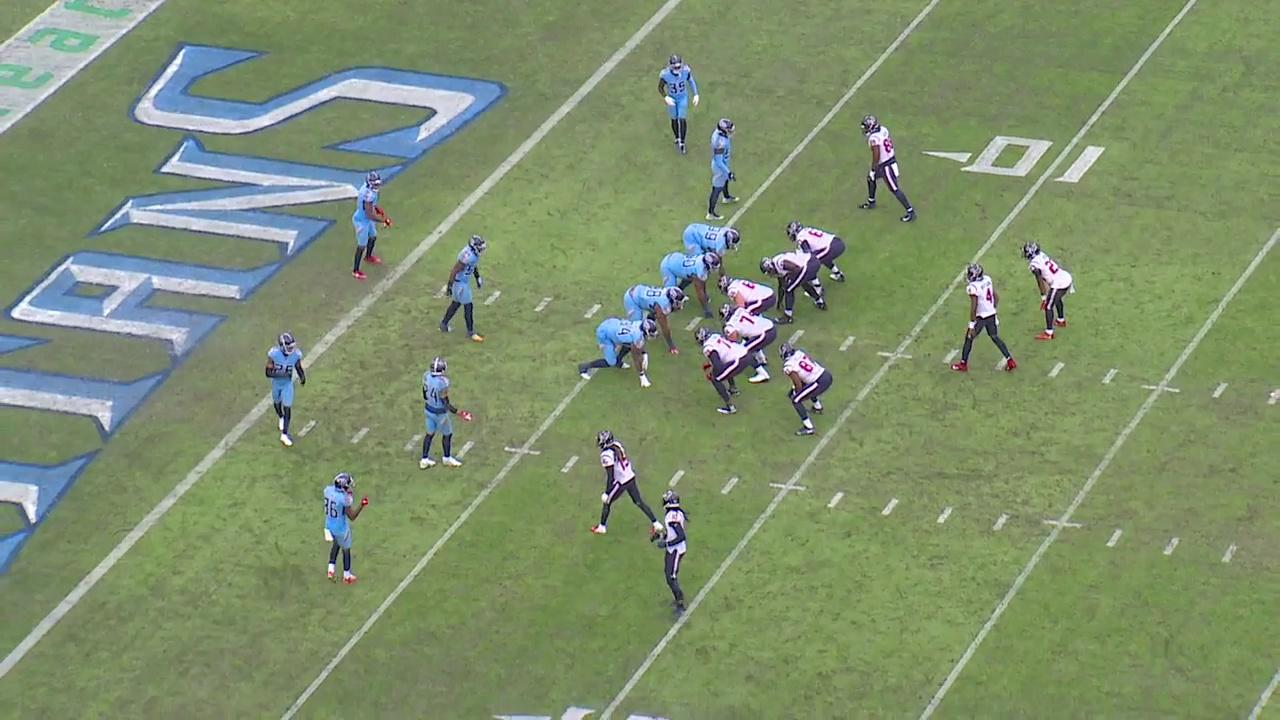player: (591, 427, 665, 538), (949, 262, 1019, 378), (314, 471, 376, 587), (414, 357, 473, 473), (856, 116, 917, 222), (579, 317, 657, 389), (434, 235, 487, 340), (658, 486, 698, 618), (265, 330, 309, 449), (779, 343, 834, 437), (758, 252, 828, 325), (1024, 240, 1073, 342), (717, 303, 777, 386), (346, 173, 392, 278), (699, 329, 753, 414), (622, 286, 686, 357), (657, 53, 698, 156), (658, 252, 720, 319), (789, 222, 847, 286), (706, 118, 741, 222), (684, 225, 740, 280), (721, 275, 778, 316)
